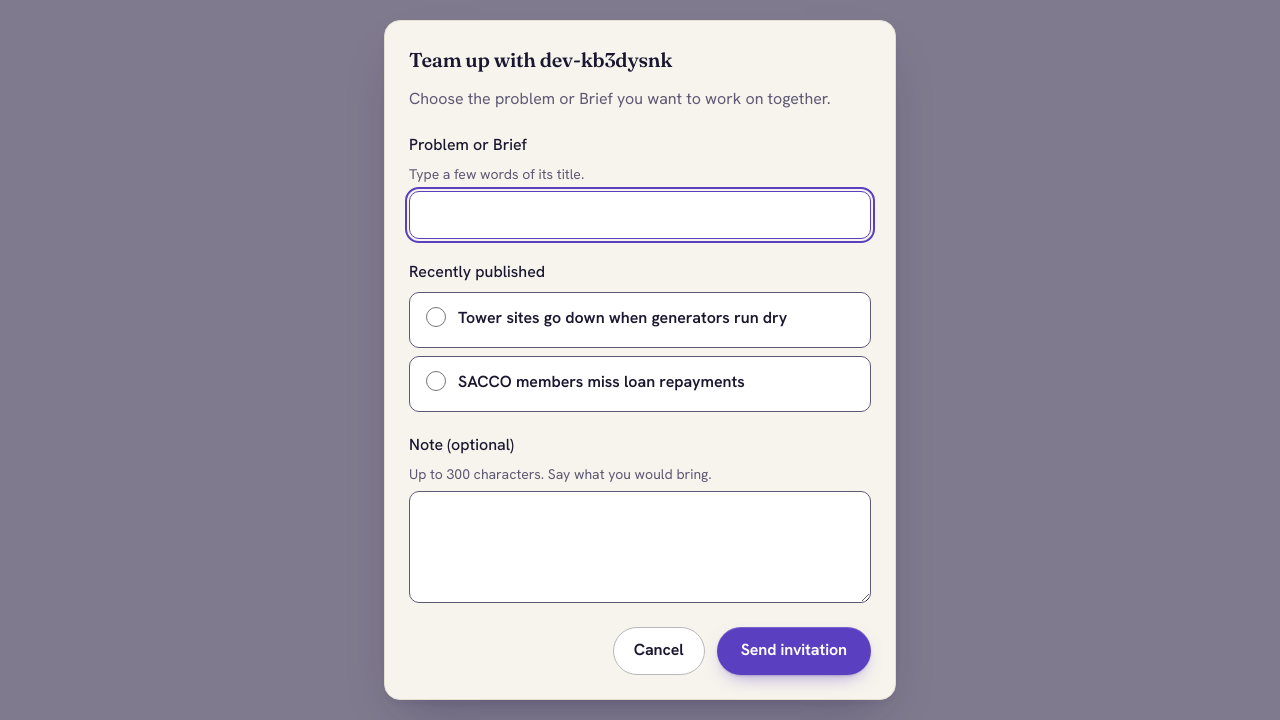
Scenario: the Team up sheet › says the problemUnavailable refusal in one sentence and stays open
Click the radio button labelled "Tower sites go down when generators run dry" at (436, 317), box x1=426 y1=307 x2=446 y2=327
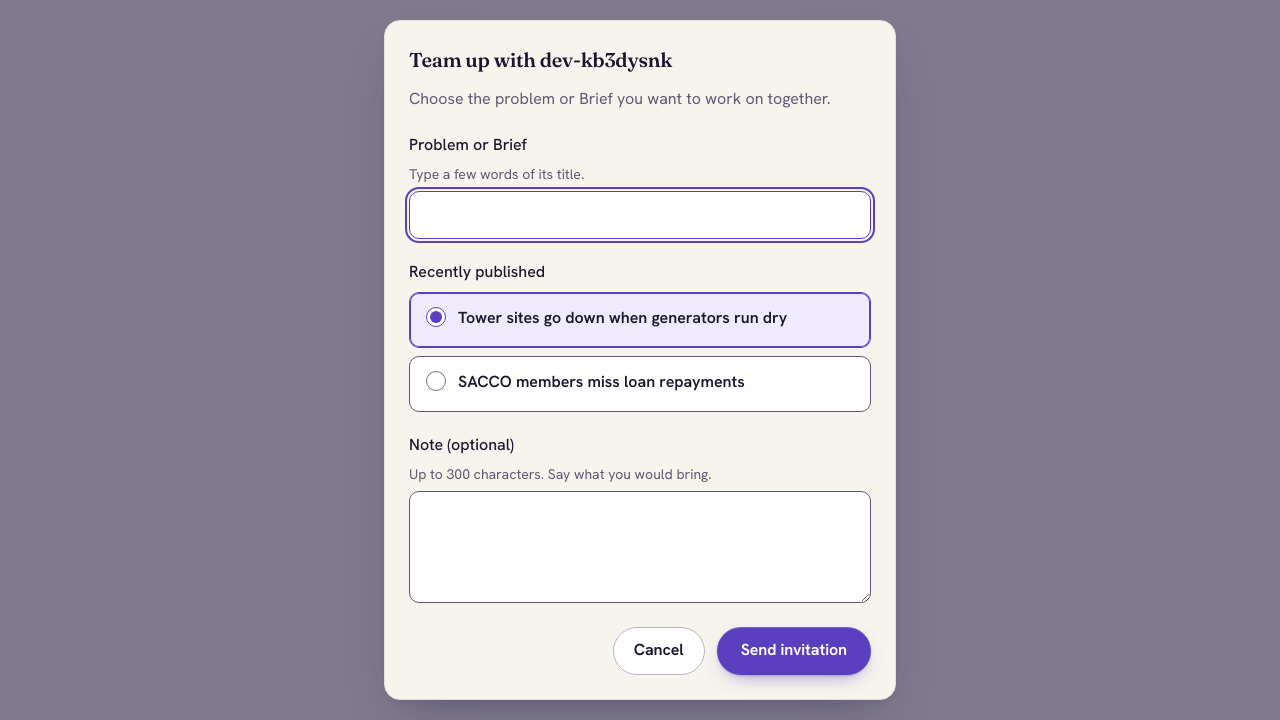
Click the button "Send invitation" at (794, 651), box x1=717 y1=627 x2=871 y2=675
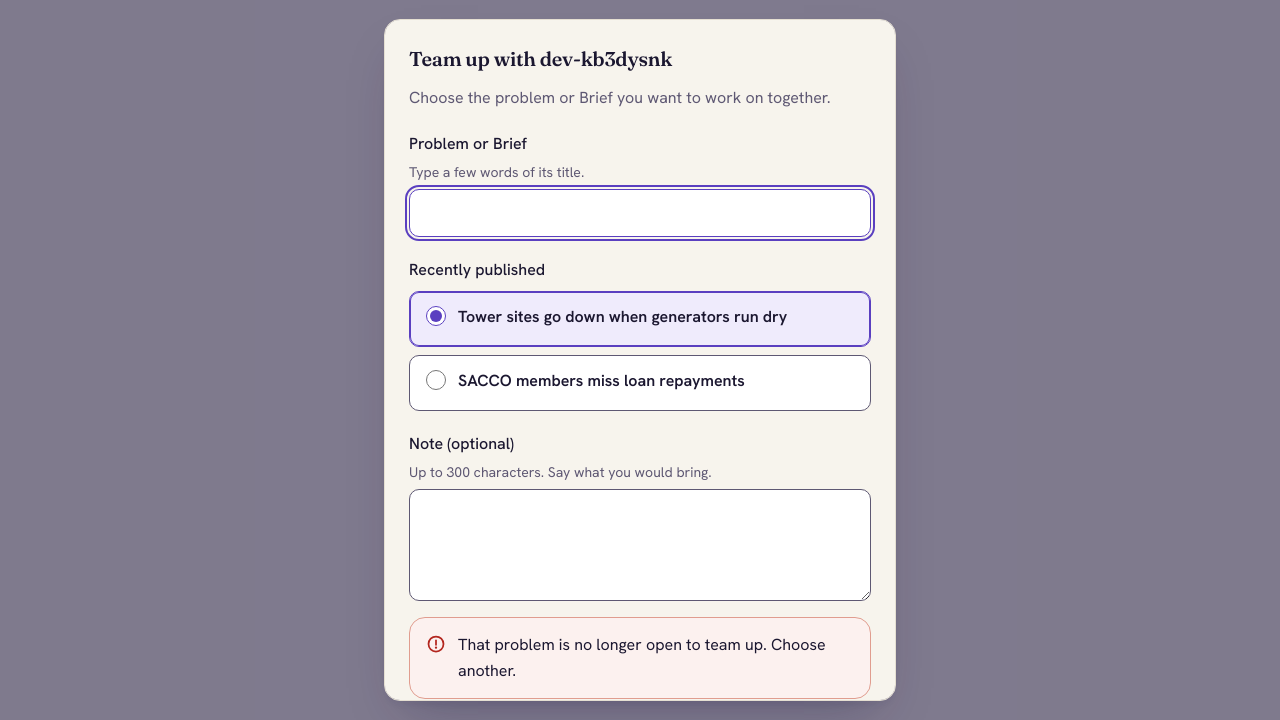
Check: the message reads "That problem is no longer open to team up. Choose another.", box x1=458 y1=634 x2=826 y2=681
